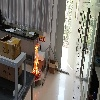fire: (31, 41, 40, 78)
